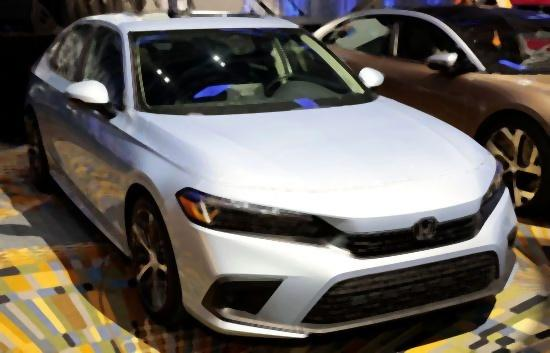Car hood: (141, 94, 500, 238)
Driver-s door - -F-R-: (69, 19, 127, 239)
Fender - -F-R-: (125, 109, 181, 255)
Front bumper: (165, 235, 534, 344)
Headlight - -L-: (476, 155, 513, 215)
Headlight - -R-: (172, 182, 341, 250)
Passenger-s door - -R-R-: (31, 19, 78, 197)
Side bumper - -R-: (41, 154, 134, 261)
Side mirror - -L-: (354, 61, 390, 95)
Side mirror - -R-: (62, 74, 120, 123)
